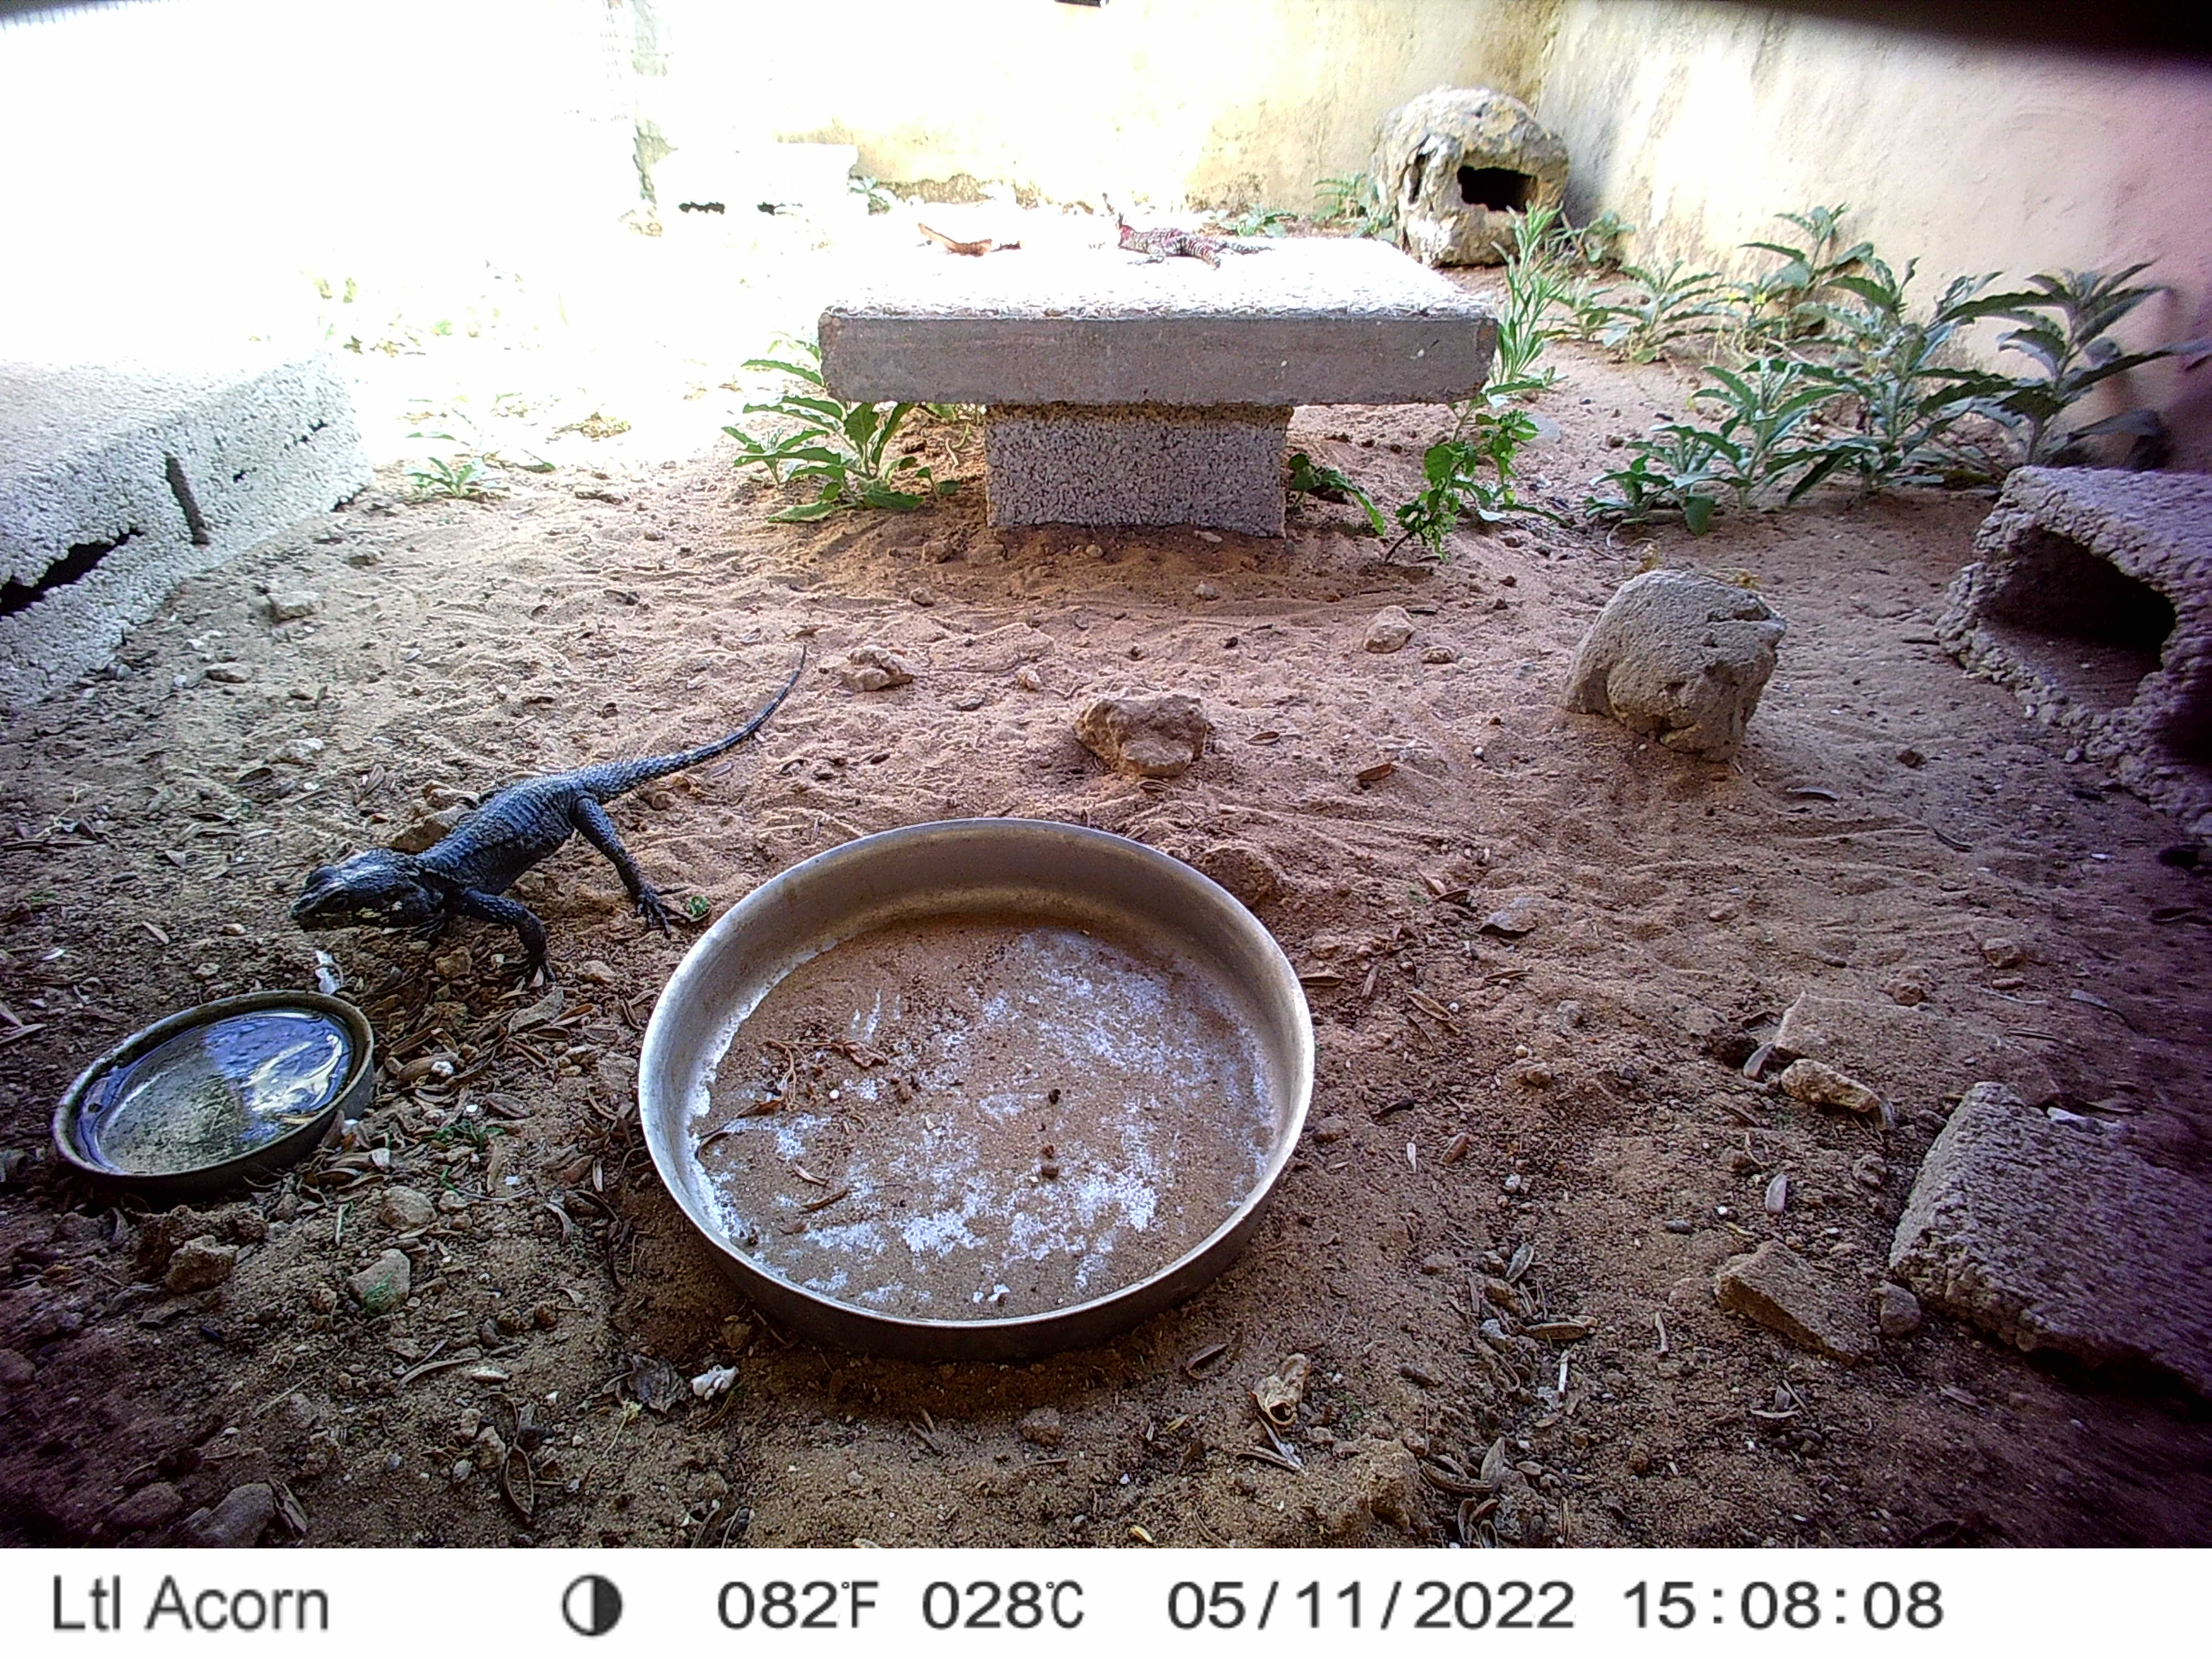lizard: (273, 641, 815, 1007), (1082, 185, 1278, 277)
